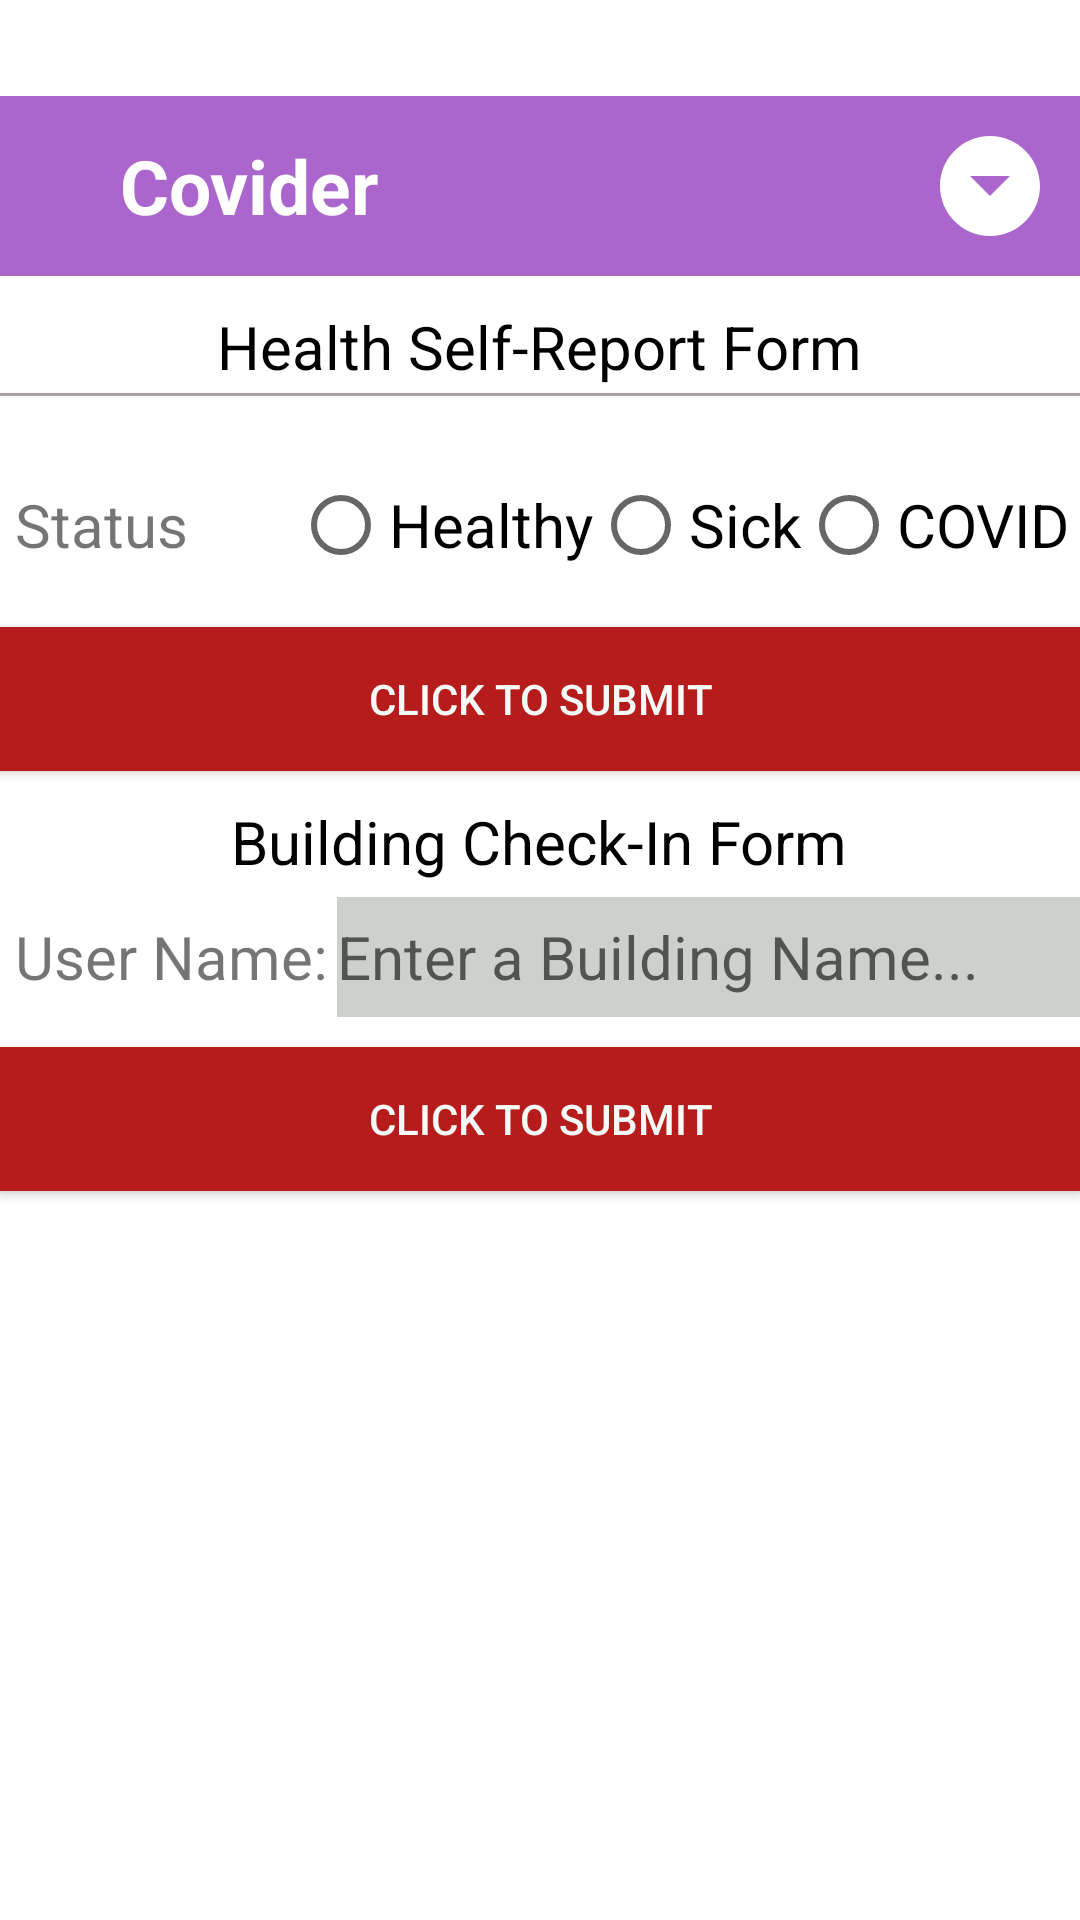

Where icons sit on this 1080×1920 app screen, as [x1, y1, x2, y2]:
arrow drop down circle: [940, 136, 1040, 236]
